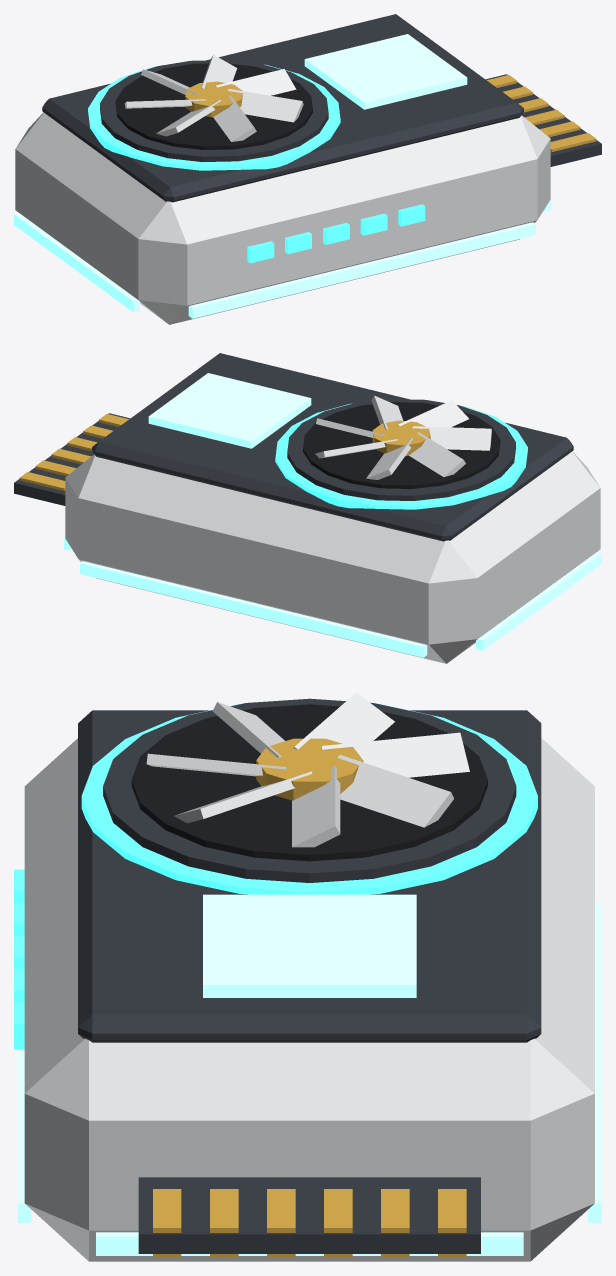
Rendered from compute_space.glb.
The picture shows the model from 3 angles, top to bottom: view 1: azimuth 30°, elevation 25°; view 2: azimuth 150°, elevation 25°; view 3: azimuth 270°, elevation 25°; orthographic projection. The views are drawn at different scales.
Parts seen in each view (by area): view 1: compute_space; view 2: compute_space; view 3: compute_space.
Boxes of the visible parts, x1=… form: compute_space: x1=14, y1=14, x2=601, y2=324; compute_space: x1=14, y1=353, x2=601, y2=663; compute_space: x1=14, y1=692, x2=601, y2=1261.
Bounding box in the file's own units: 0.28 × 0.0896 × 0.165.
